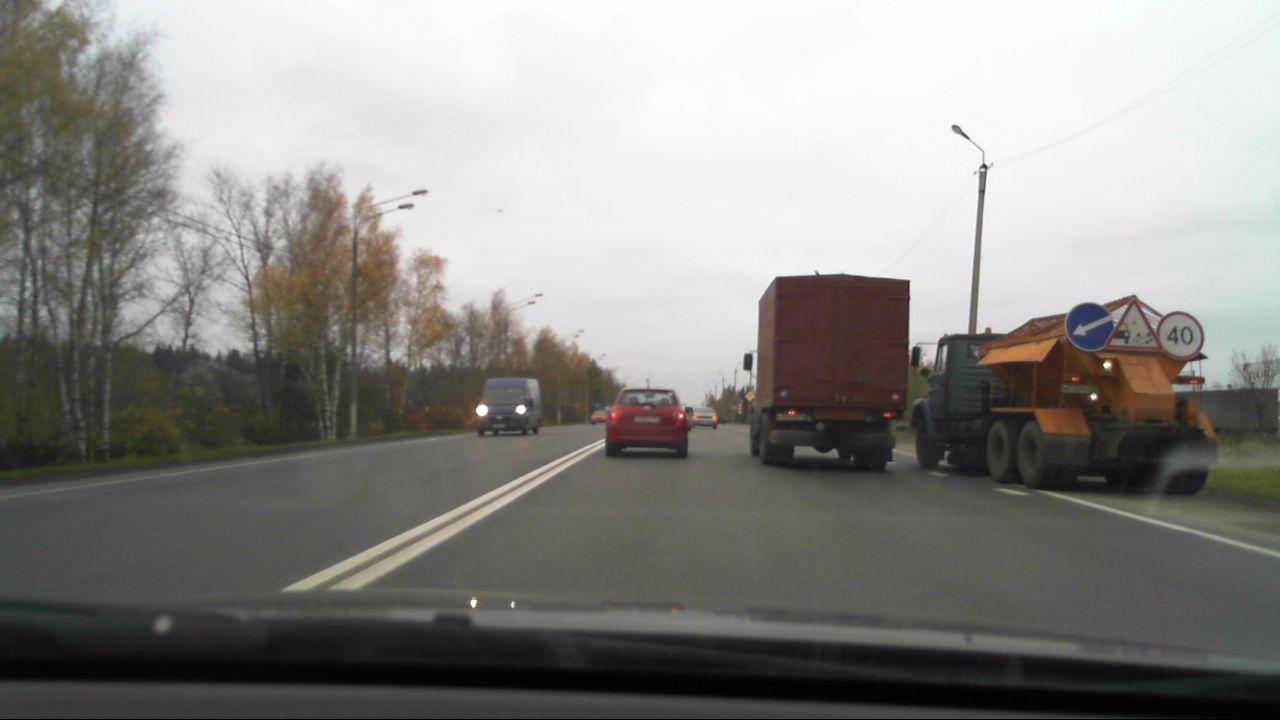1_18: (1105, 299, 1159, 354)
3_24: (1157, 312, 1205, 362)
4_2_2: (1061, 300, 1114, 350)
